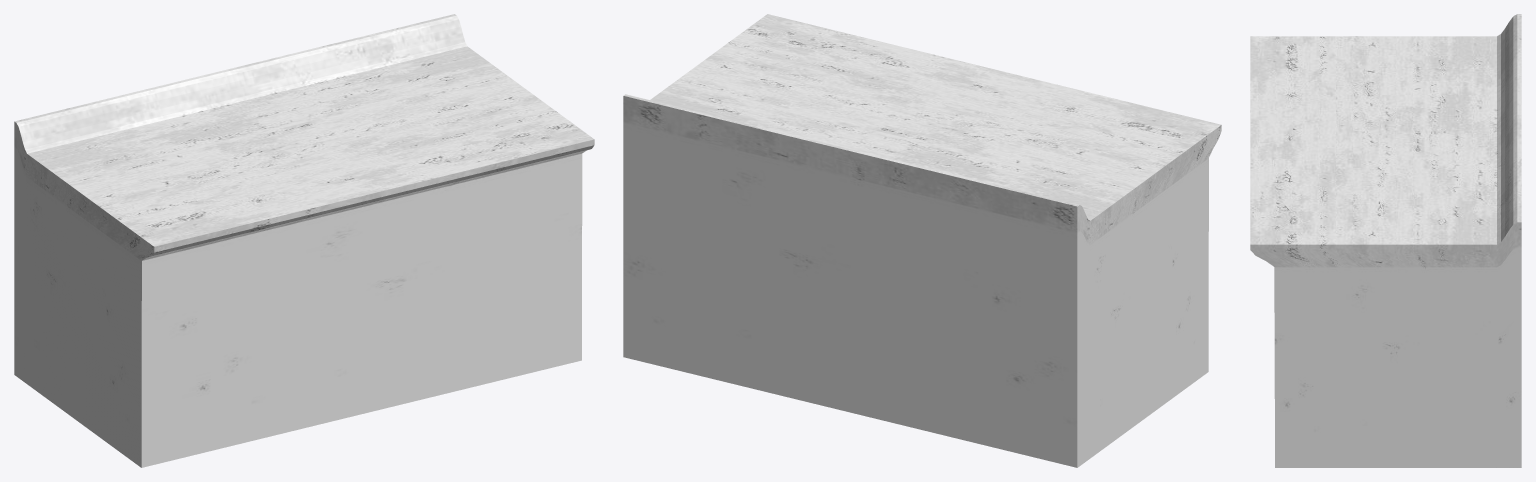
The model's file is table1.fbx.
3 views of the same model, side by side, from view 1: azimuth 30°, elevation 25°; view 2: azimuth 150°, elevation 25°; view 3: azimuth 270°, elevation 25° (orthographic). The views are drawn at different scales.
Parts seen in each view (by area): view 1: Table1; view 2: Table1; view 3: Table1.
Part boxes in pixels (box(x1,y1,x2,y2)): Table1: box(14, 14, 594, 467); Table1: box(623, 14, 1221, 467); Table1: box(1250, 14, 1521, 467).
Size of the model in its own units: 200 by 110 by 110.
Materials: 1 (1 with a texture image).
